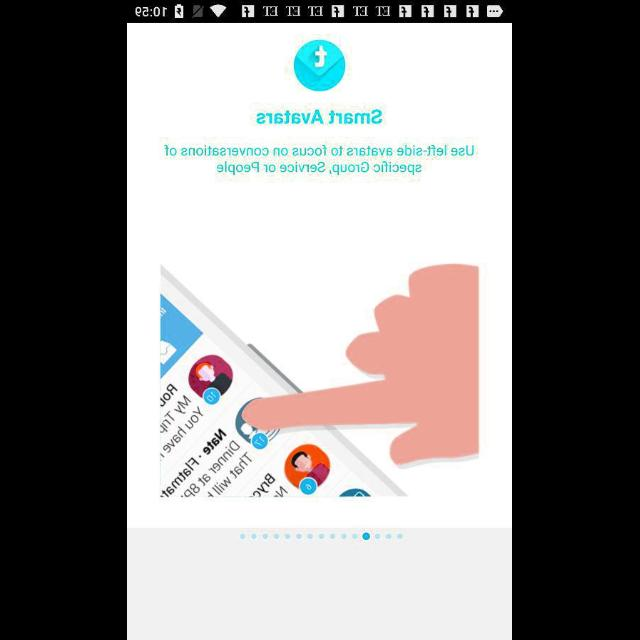image: (161, 264, 479, 498), (294, 40, 346, 92)
pageindicator: (240, 532, 404, 542)
text: (164, 144, 474, 176), (257, 110, 383, 124)
uppertaskbar: (128, 1, 512, 23)
